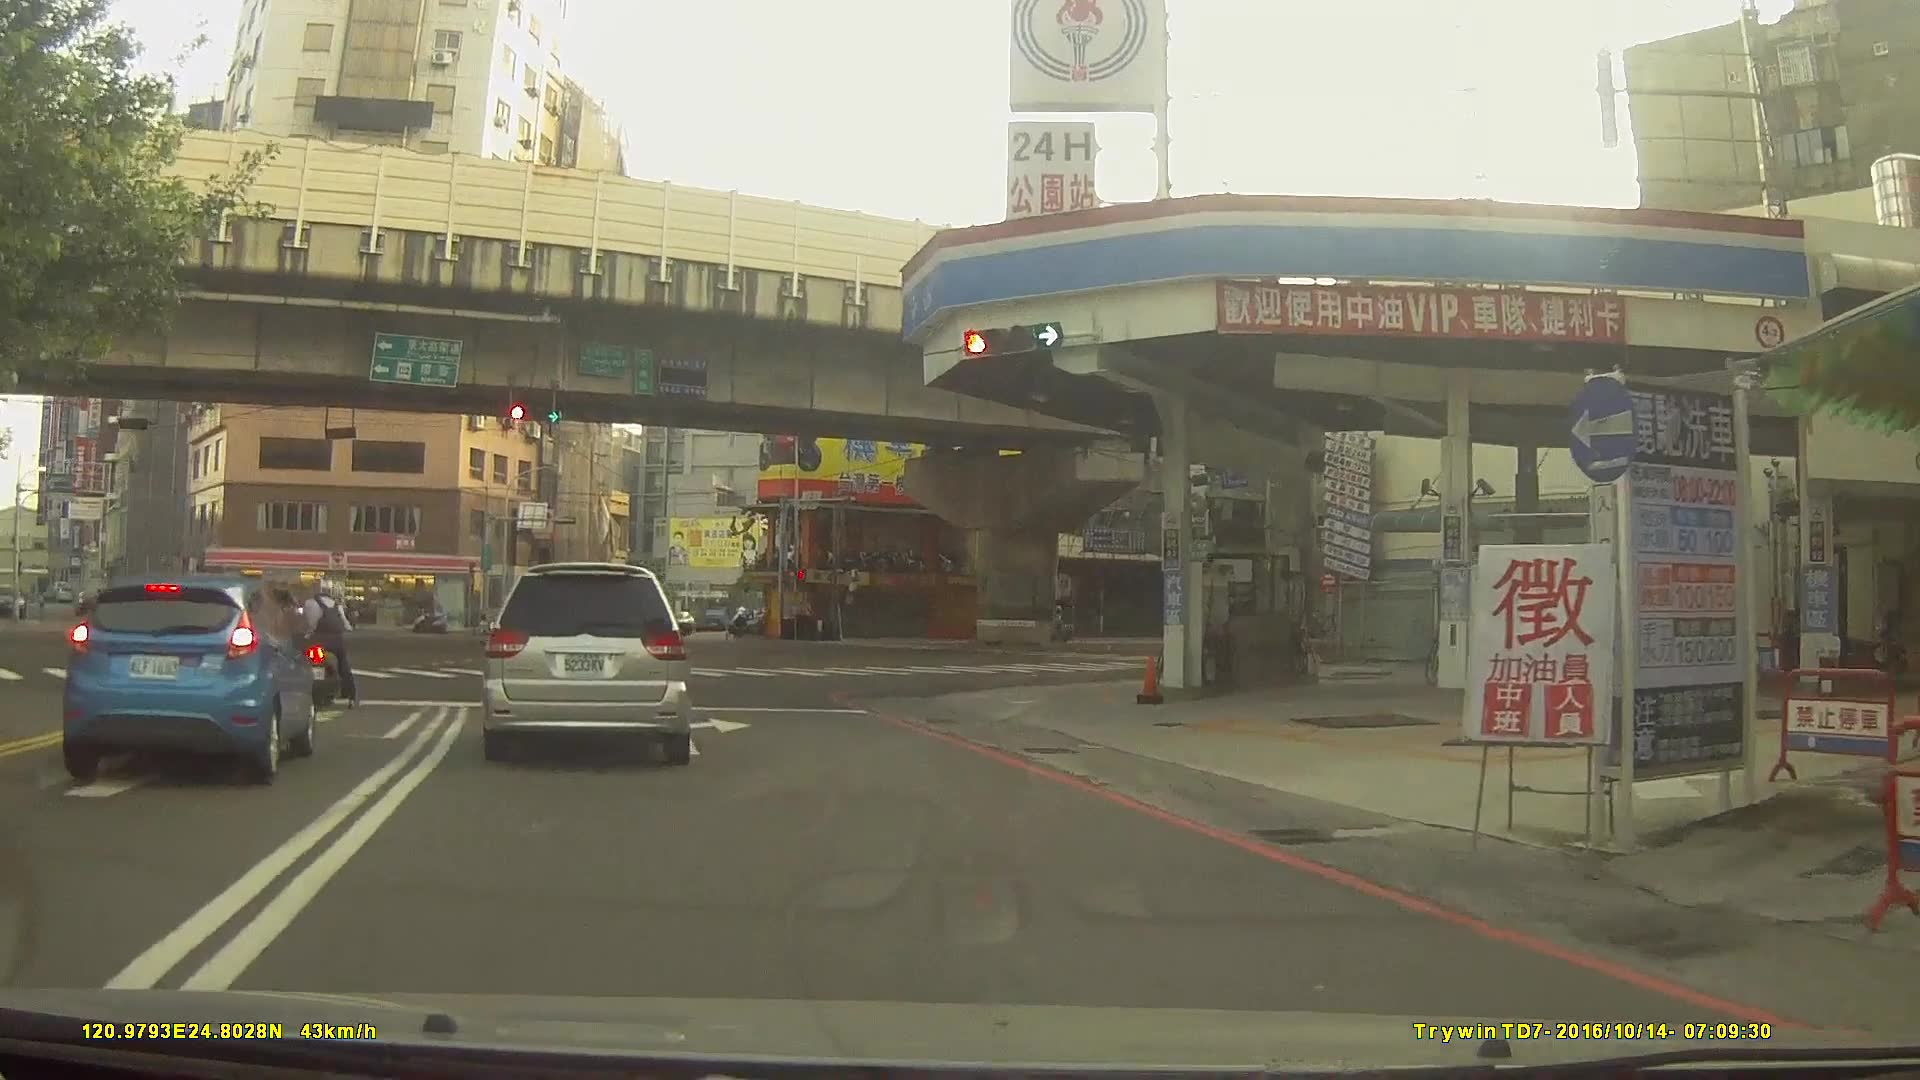rider: (300, 578, 361, 720)
vehicle: (56, 571, 317, 786), (479, 560, 691, 765), (155, 586, 294, 639), (543, 606, 605, 633)
